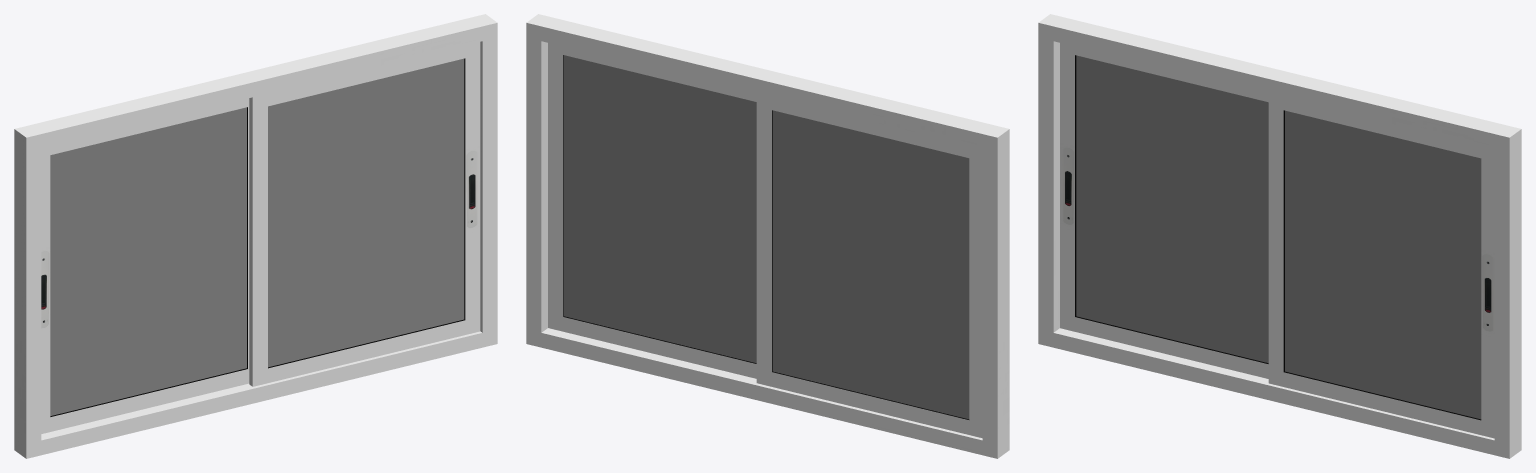
The model's file is Window.FBX.
3 renders of one model, left to right at view 1: azimuth 30°, elevation 25°; view 2: azimuth 150°, elevation 25°; view 3: azimuth 330°, elevation 25°, orthographic.
Visible parts, largest first — view 1: window B, window A, frame; view 2: window A, window B, frame; view 3: window B, window A, frame.
Boxes of the visible parts, x1,y1,x2,y2 form: window B: [249, 42, 480, 386]; window A: [41, 98, 249, 433]; frame: [14, 14, 497, 458]; window A: [756, 94, 982, 438]; window B: [548, 43, 756, 378]; frame: [526, 14, 1009, 458]; window B: [1268, 94, 1494, 438]; window A: [1060, 43, 1268, 378]; frame: [1038, 14, 1521, 458].
Bounding box in the file's own units: 232 × 151 × 10.21.
2 materials, 1 textured.
